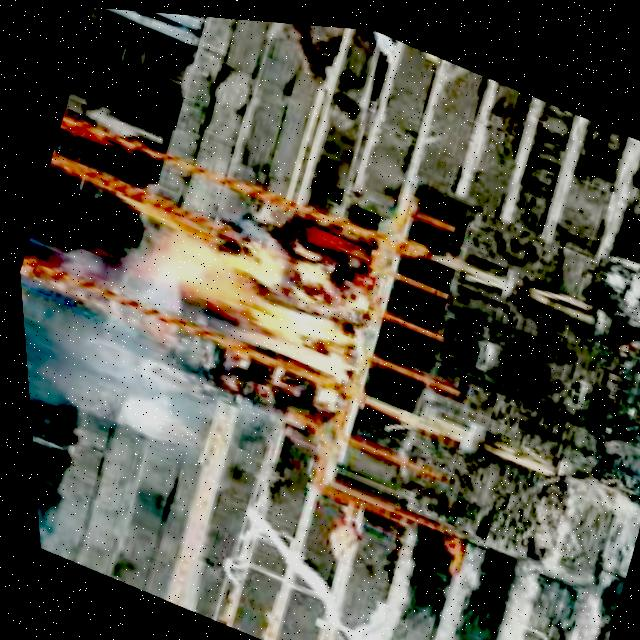Fire: (127, 196, 384, 390)
